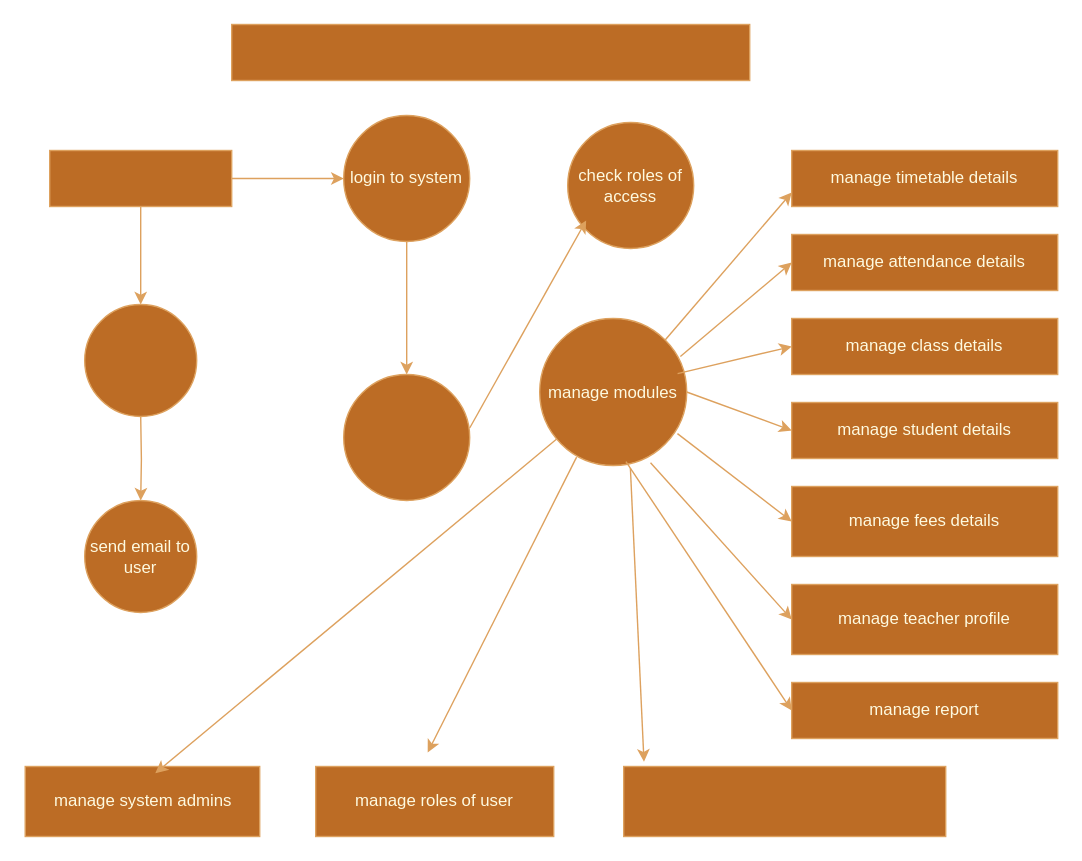
The diagram is 1082 pixels wide and 861 high, and some of its shapes have lost their labels. The shapes that lost their labels are listed below. From the top down, each one's box as (x1, y1, x2, y2) in pixels, then its label:
(230, 23, 750, 80): Student information system
(48, 149, 232, 206): admin
(83, 303, 197, 416): forgot password
(342, 373, 470, 500): check credentials
(622, 765, 946, 836): manage user permission
